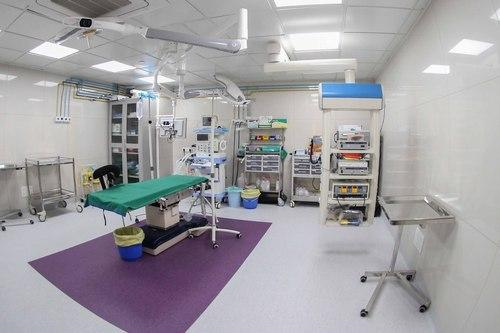Monitor: (111, 222, 146, 262)
bed: (86, 170, 211, 257)
bin: (225, 181, 244, 209), (241, 182, 261, 208)
tools_table: (351, 182, 460, 324), (21, 149, 79, 224)
